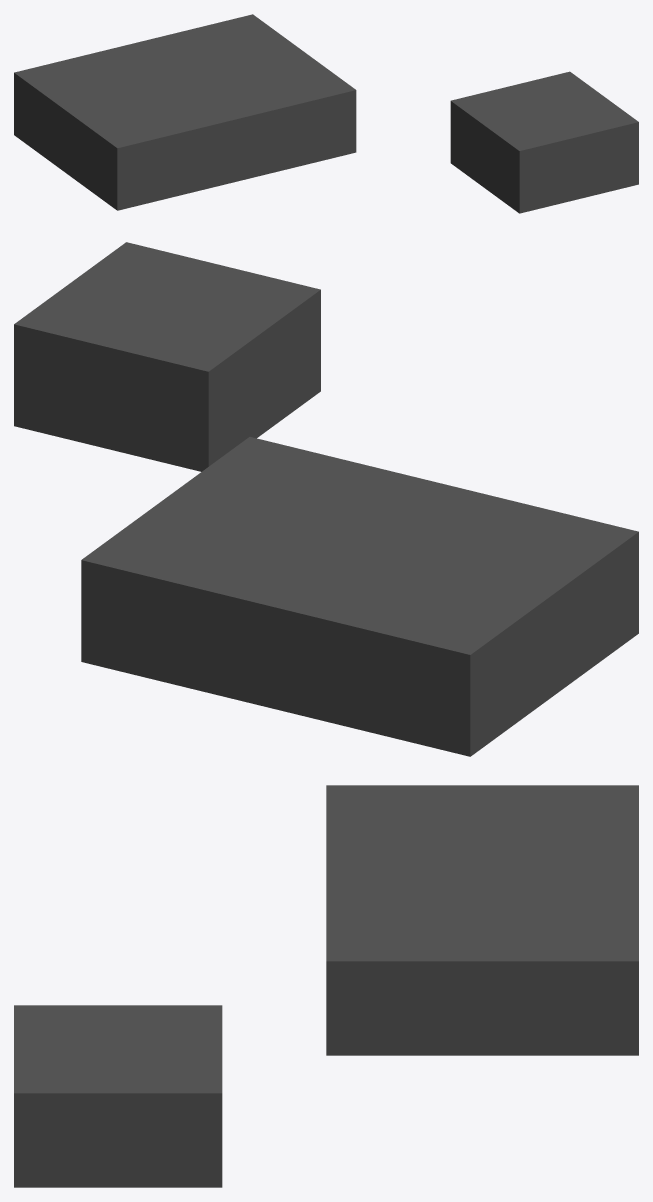
Rendered from DOL_2.obj.
3 renders of one model, top to bottom at view 1: azimuth 30°, elevation 25°; view 2: azimuth 150°, elevation 25°; view 3: azimuth 270°, elevation 25°, orthographic. The views are drawn at different scales.
Visible parts, largest first — view 1: DOL_2; view 2: DOL_2; view 3: DOL_2.
Boxes of the visible parts, bbox=[...] form: DOL_2: bbox=[14, 14, 638, 213]; DOL_2: bbox=[14, 242, 638, 756]; DOL_2: bbox=[14, 785, 638, 1187].
Bounding box in the file's own units: 7 × 1 × 6.
1 material, 1 textured.
